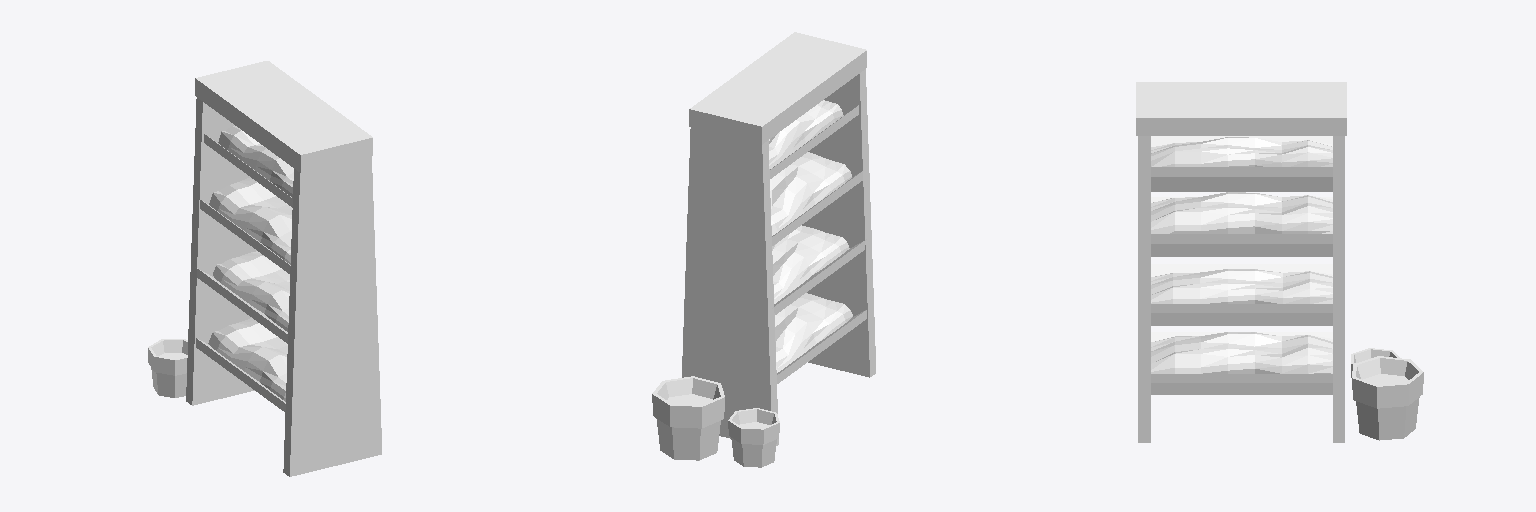
File: kwietnik.obj
3 views of the same model, side by side, from view 1: azimuth 30°, elevation 25°; view 2: azimuth 150°, elevation 25°; view 3: azimuth 270°, elevation 25° (orthographic).
Visible parts, largest first — view 1: kwietnik; view 2: kwietnik; view 3: kwietnik.
Boxes of the visible parts, x1=… form: kwietnik: x1=148, y1=61, x2=381, y2=476; kwietnik: x1=652, y1=32, x2=875, y2=467; kwietnik: x1=1136, y1=82, x2=1423, y2=442.
Bounding box in the file's own units: 61.32 × 165 × 134.